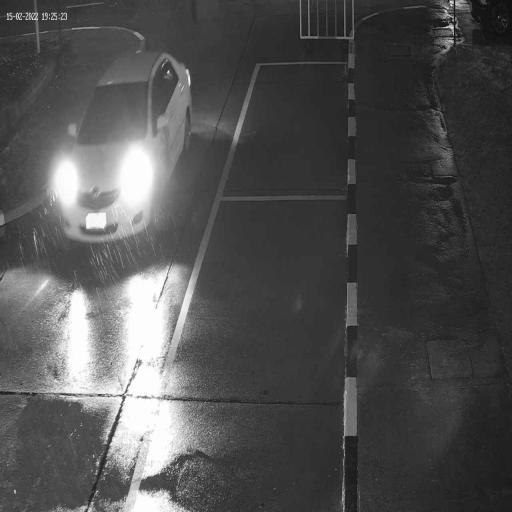car: (58, 47, 194, 245)
